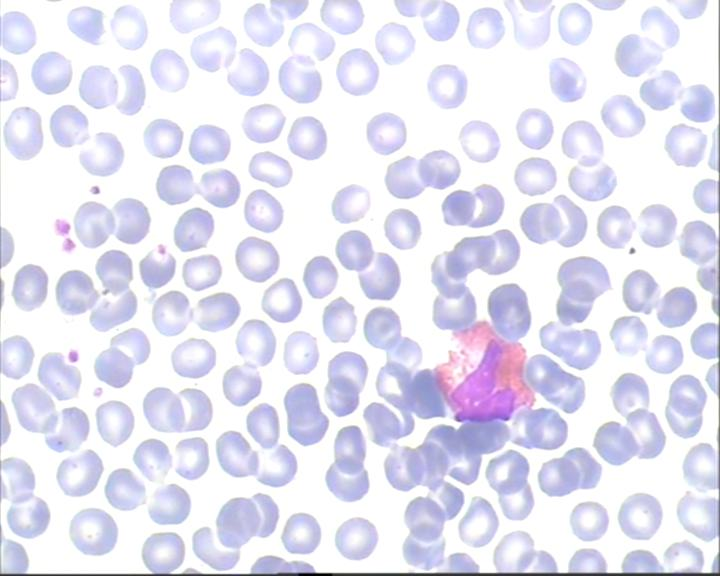eosi: (433, 316, 539, 423)
